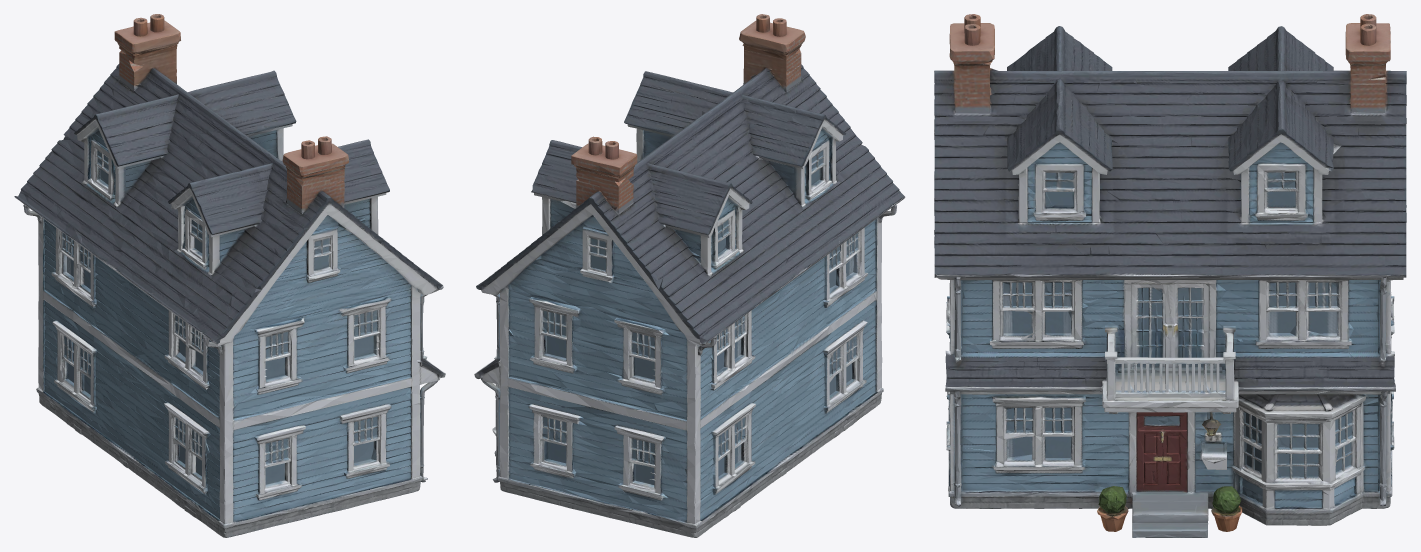
Rendered from house_i.glb.
3 views of the same model, side by side, from view 1: azimuth 30°, elevation 25°; view 2: azimuth 150°, elevation 25°; view 3: azimuth 270°, elevation 25° (orthographic). The views are drawn at different scales.
Visible parts, largest first — view 1: tripo_node_93565985-1245-4079-a2d5-05a43b2e021c; view 2: tripo_node_93565985-1245-4079-a2d5-05a43b2e021c; view 3: tripo_node_93565985-1245-4079-a2d5-05a43b2e021c.
Boxes of the visible parts, left/top/right/bottom form: tripo_node_93565985-1245-4079-a2d5-05a43b2e021c: left=14, top=14, right=445, bottom=537; tripo_node_93565985-1245-4079-a2d5-05a43b2e021c: left=474, top=14, right=905, bottom=537; tripo_node_93565985-1245-4079-a2d5-05a43b2e021c: left=934, top=14, right=1406, bottom=537.
Size of the model in its own units: 0.7583 by 1 by 0.9892.
Materials: 1 (1 with a texture image).
